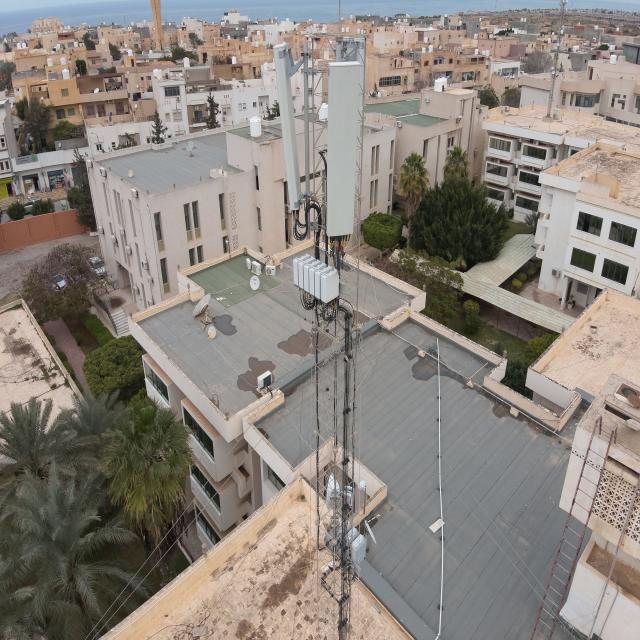antenna: (325, 58, 356, 236), (271, 39, 302, 212), (336, 32, 366, 170)
lighnig-rad: (338, 1, 341, 37)
microware-dish: (326, 472, 356, 510)
power-box: (337, 520, 367, 566)
radio-unit: (292, 252, 339, 306)
